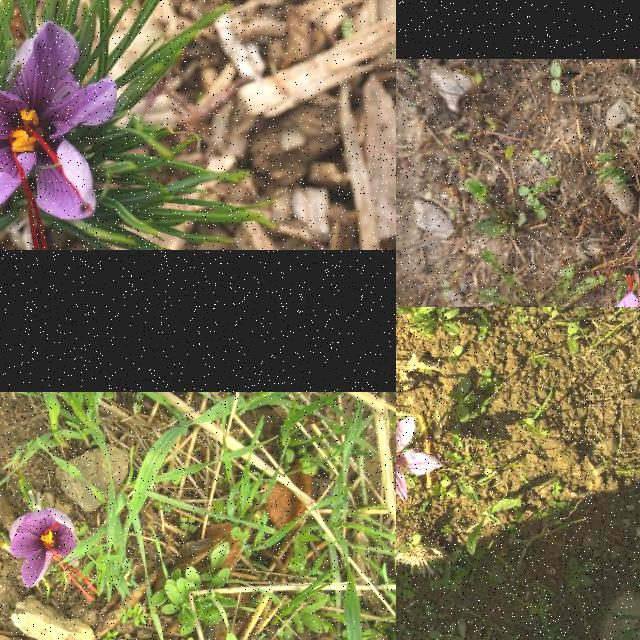flower: (0, 21, 117, 250), (8, 508, 102, 602), (396, 410, 445, 503)
